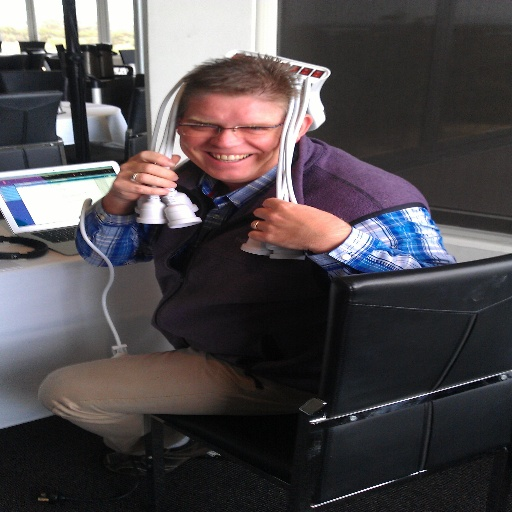hand: (232, 190, 352, 246), (105, 149, 182, 205)
